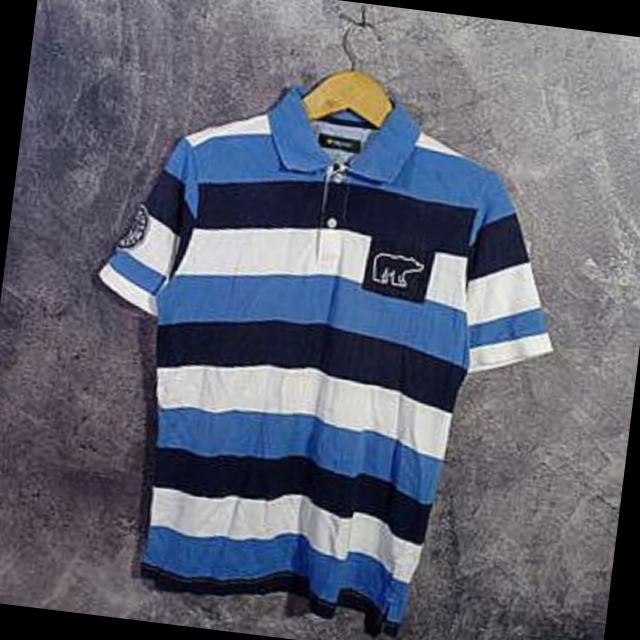T_SHIRT: (50, 46, 601, 640)
